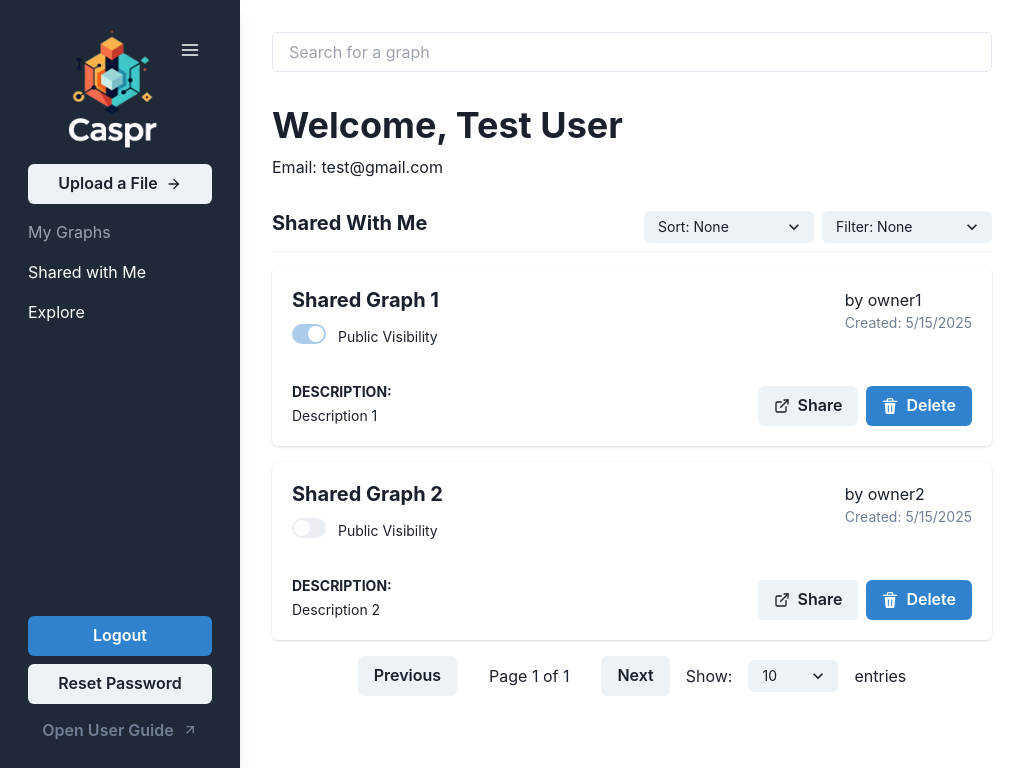
Shared With Me Page Component › opens the share modal when the Share button is clicked
Step 1. Click the button "Share" in the row of "Description 1" → [808, 406], box [758, 386, 858, 426]
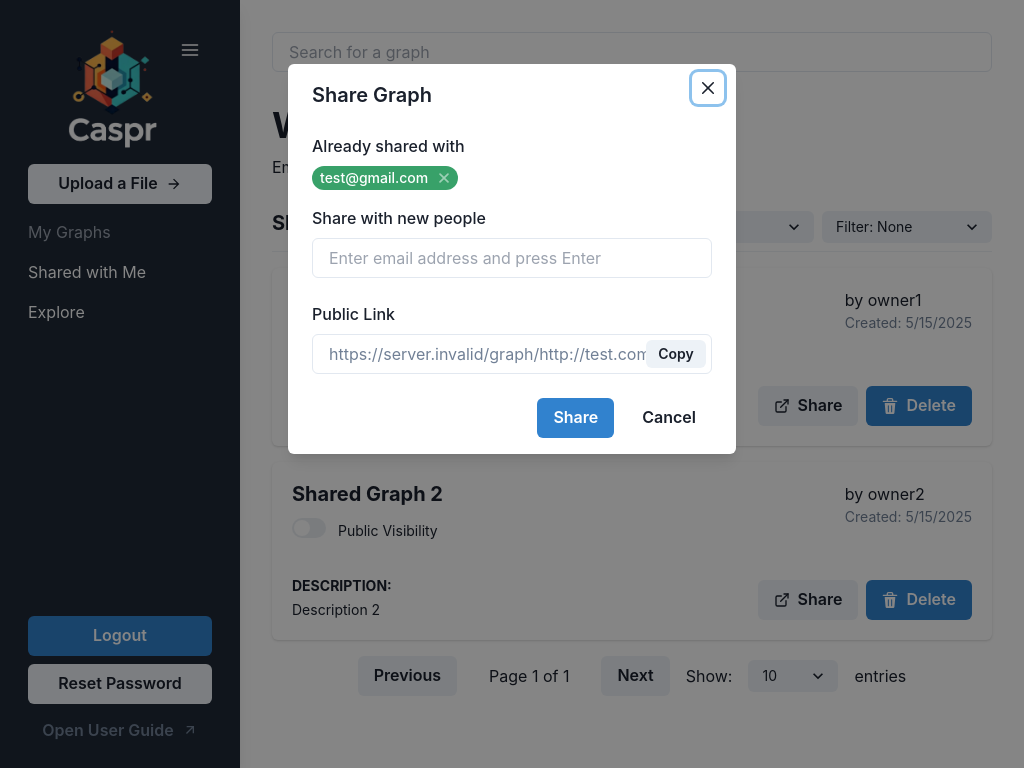
Check: the text "Share Graph" is shown, box [312, 83, 432, 107]
Check: the field with placeholder "Enter email address and press Enter" is shown, box [312, 238, 712, 278]
Check: the button "Share" is shown, box [537, 398, 614, 438]
